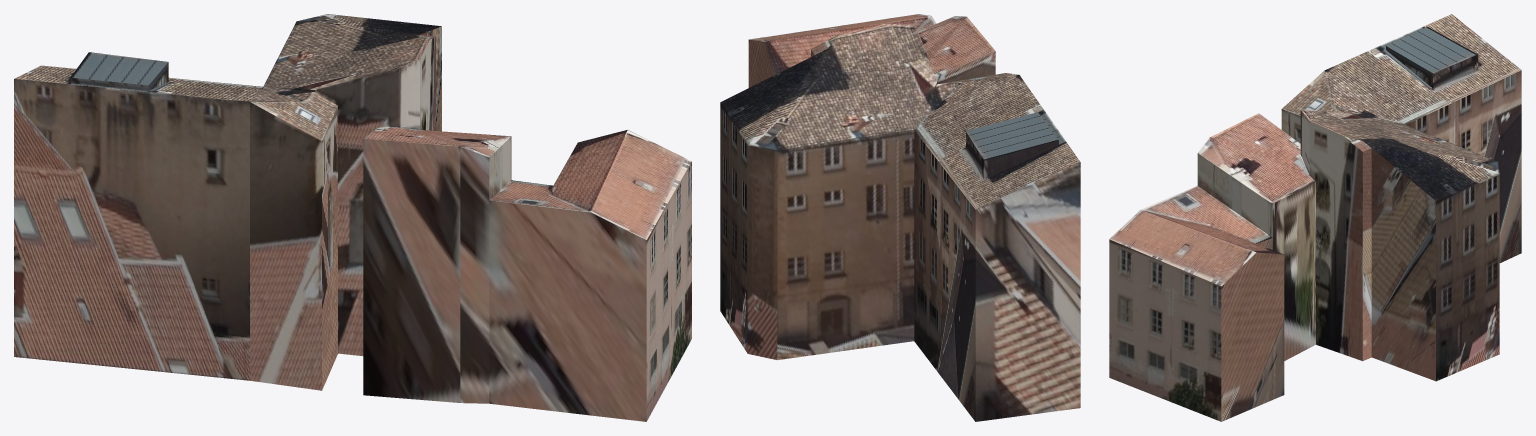
3 views of the same model, side by side, from view 1: azimuth 30°, elevation 25°; view 2: azimuth 150°, elevation 25°; view 3: azimuth 270°, elevation 25° (orthographic). The views are drawn at different scales.
Parts seen in each view (by area): view 1: Z_UP; view 2: Z_UP; view 3: Z_UP.
Part boxes in pixels (box(x1,y1,x2,y2)): Z_UP: box(14, 14, 691, 421); Z_UP: box(720, 14, 1080, 421); Z_UP: box(1109, 14, 1521, 421).
Bounding box in the file's own units: 36.26 × 19.16 × 32.28.
2 materials, 1 textured.
